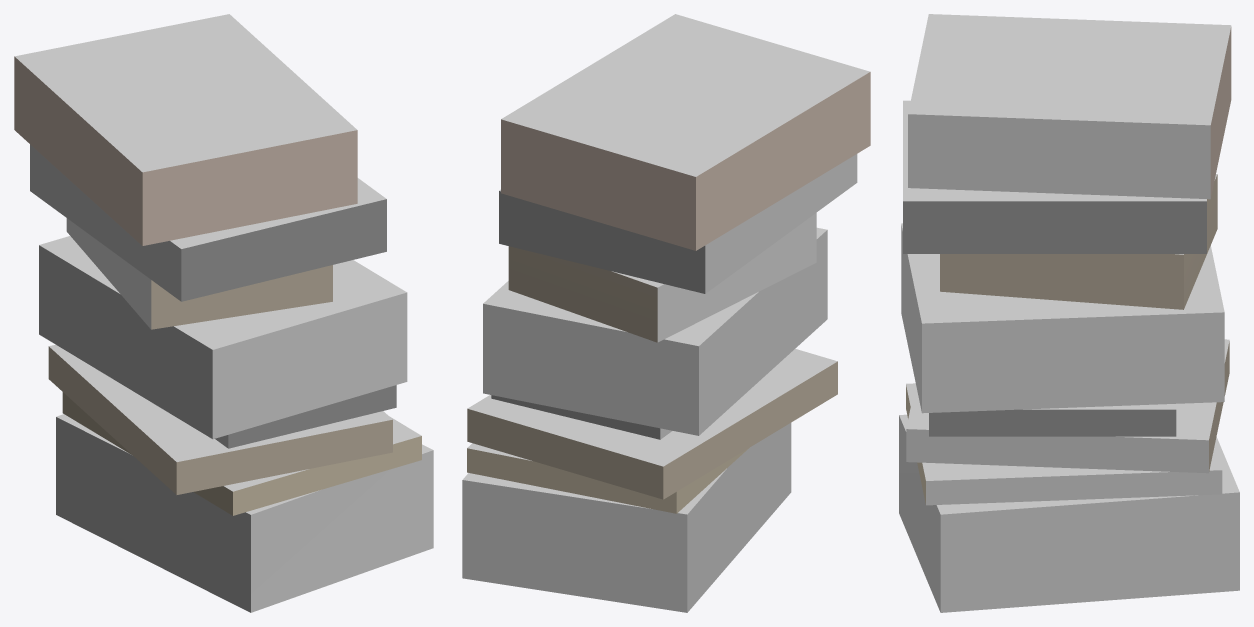
File: SM_H_Government_Tide_Book_02E_ATLAS.fbx
3 views of the same model, side by side, from view 1: azimuth 30°, elevation 25°; view 2: azimuth 150°, elevation 25°; view 3: azimuth 270°, elevation 25° (orthographic).
Visible parts, largest first — view 1: SM_H_Government_Tide_Book_02E_ATLAS; view 2: SM_H_Government_Tide_Book_02E_ATLAS; view 3: SM_H_Government_Tide_Book_02E_ATLAS.
Boxes of the visible parts, <box> form: SM_H_Government_Tide_Book_02E_ATLAS: <box>14,14,433,612</box>; SM_H_Government_Tide_Book_02E_ATLAS: <box>462,14,870,612</box>; SM_H_Government_Tide_Book_02E_ATLAS: <box>899,14,1239,612</box>.
Bounding box in the file's own units: 40.11 × 39.77 × 58.41.
